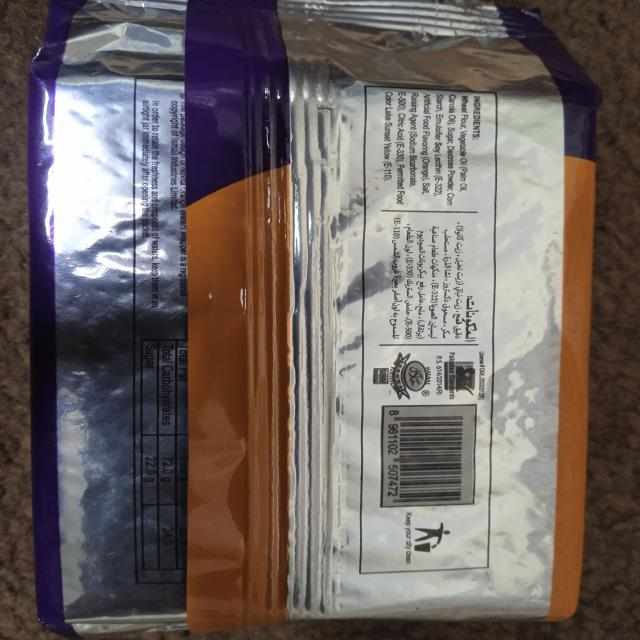Plastic: (34, 1, 598, 626)
